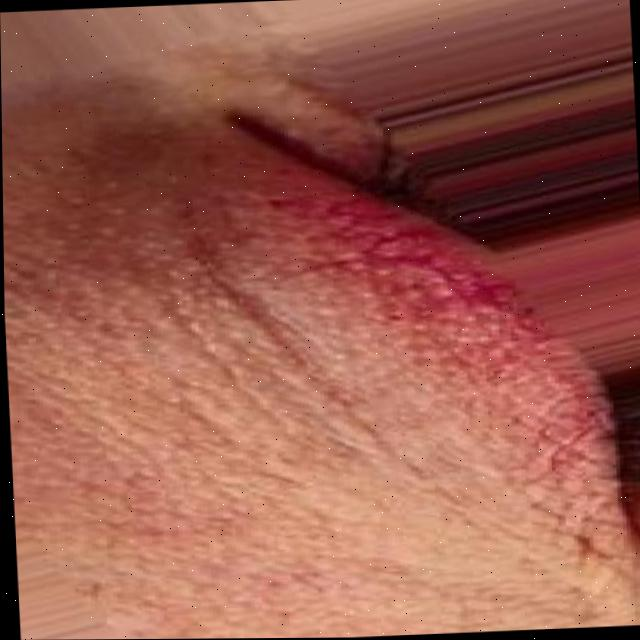Rosacea: (265, 175, 601, 507)
